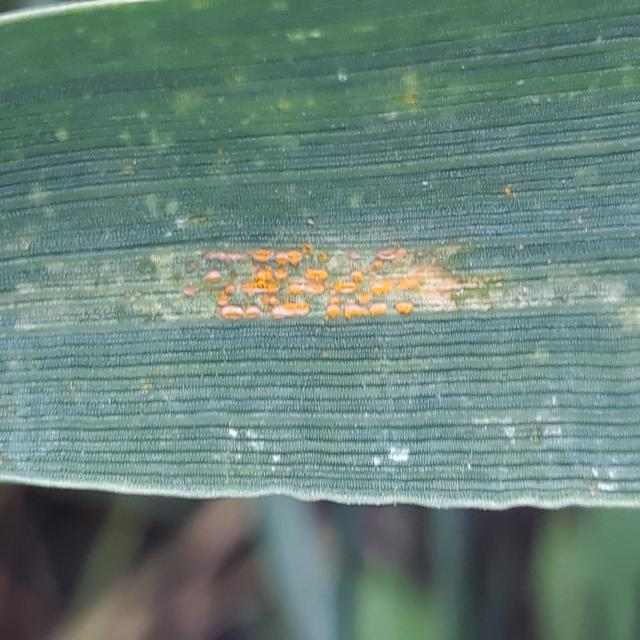yellow_rust: (59, 43, 608, 510)
